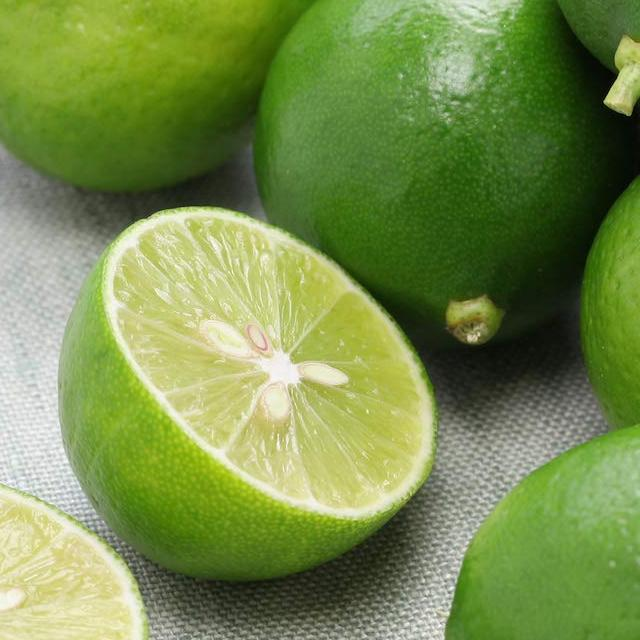lime: (250, 0, 640, 352), (443, 426, 640, 640)
